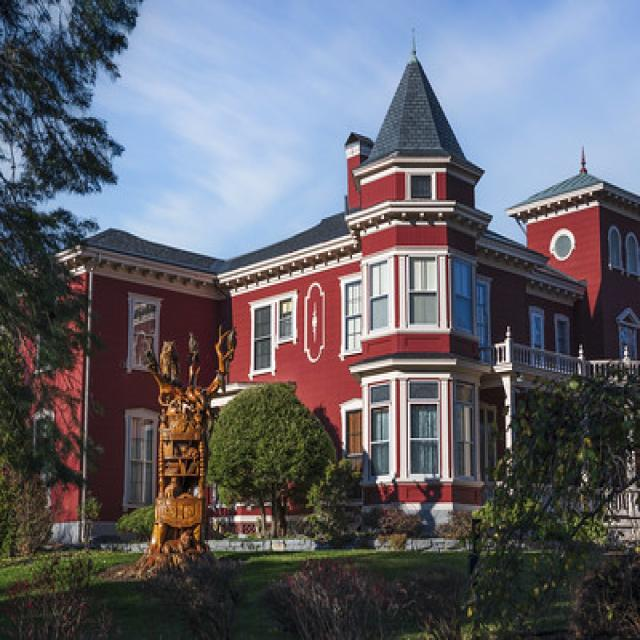building: (9, 76, 634, 541)
